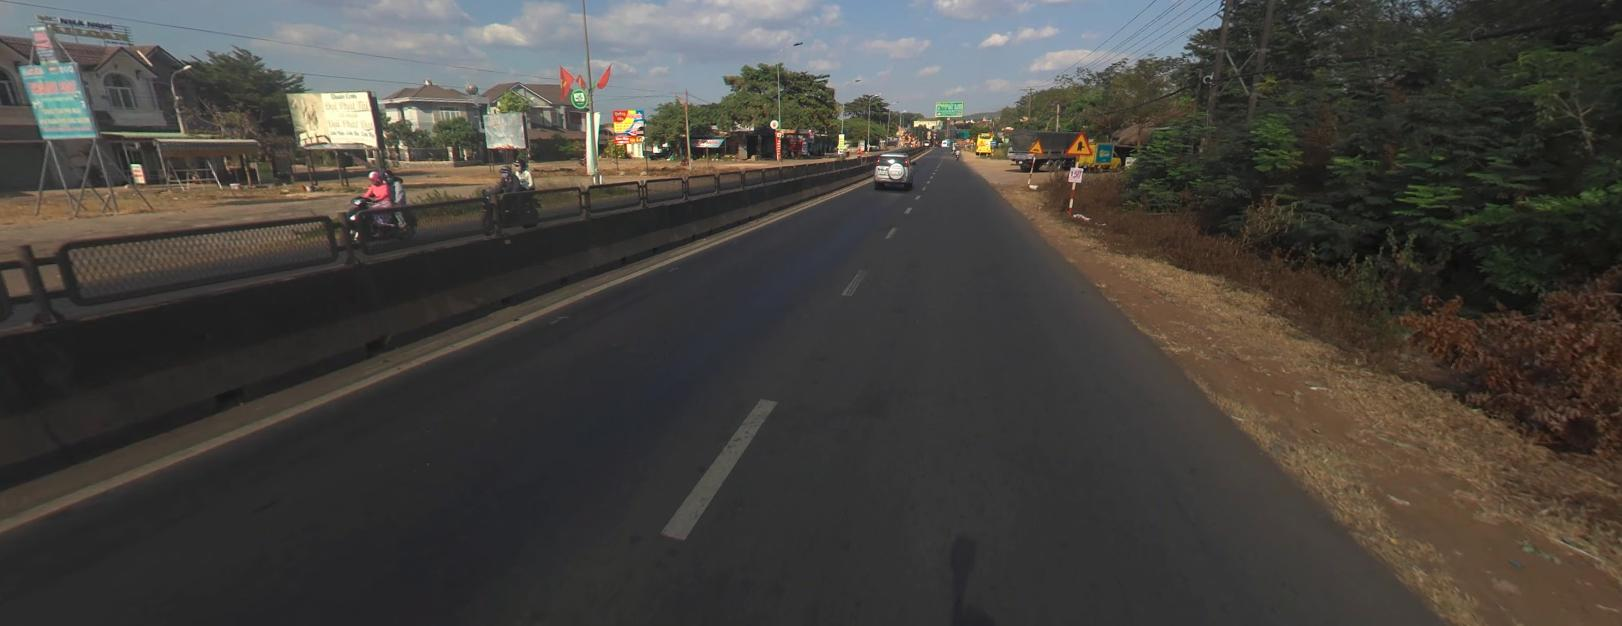Cam nguoc chieu: (932, 131, 935, 135)
Hieu lenh: (932, 135, 935, 138)
Nguy hiem: (1064, 131, 1091, 154), (1028, 138, 1042, 152)
